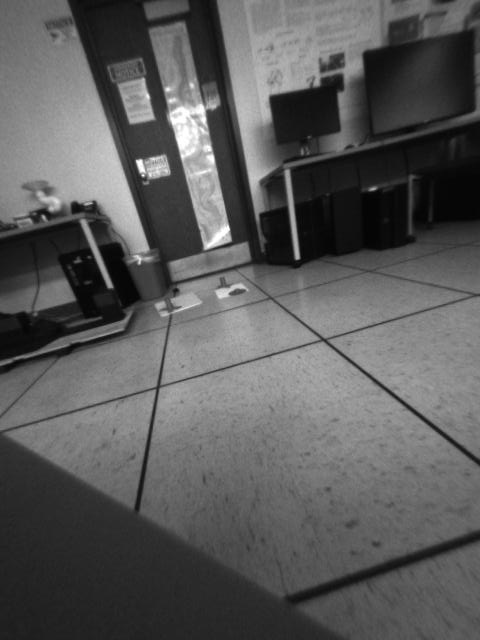X: (156, 298, 181, 314), (214, 276, 230, 287)
